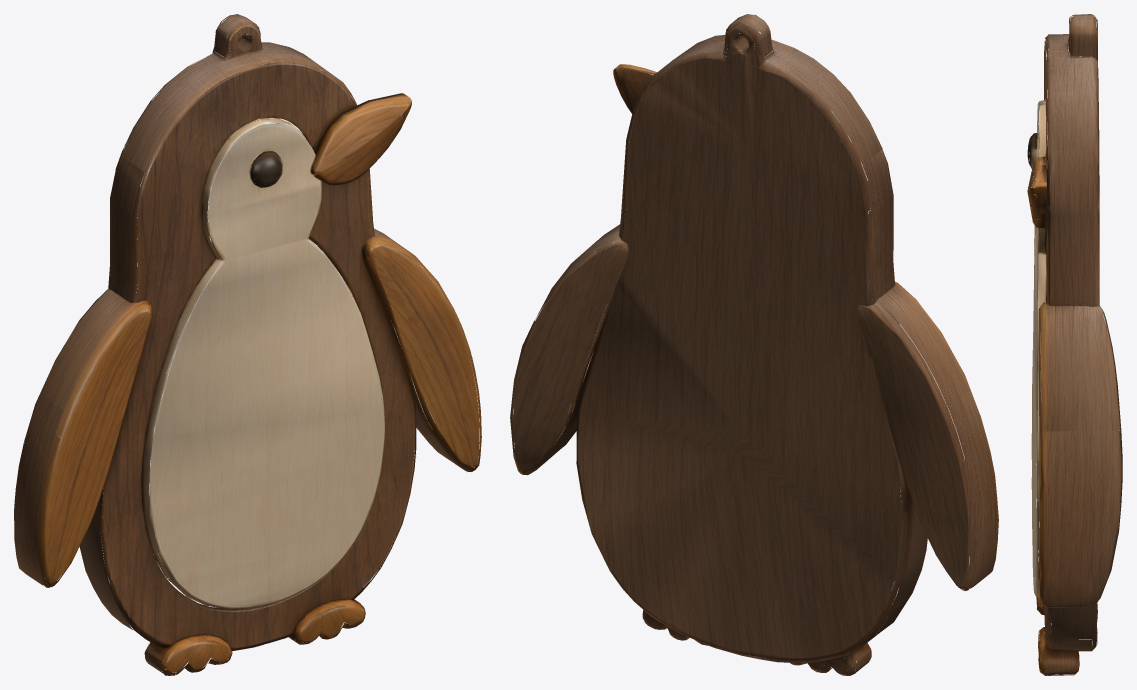
3 views of the same model, side by side, from view 1: azimuth 30°, elevation 25°; view 2: azimuth 150°, elevation 25°; view 3: azimuth 270°, elevation 25° (orthographic). The views are drawn at different scales.
Visible parts, largest first — view 1: b04_Wooden_penguin_crest; view 2: b04_Wooden_penguin_crest; view 3: b04_Wooden_penguin_crest.
Boxes of the visible parts, x1,y1,x2,y2 form: b04_Wooden_penguin_crest: (14, 14, 481, 675); b04_Wooden_penguin_crest: (510, 14, 998, 675); b04_Wooden_penguin_crest: (1027, 14, 1122, 675).
Bounding box in the file's own units: 0.75 × 0.9999 × 0.1398.
1 material, 1 textured.
